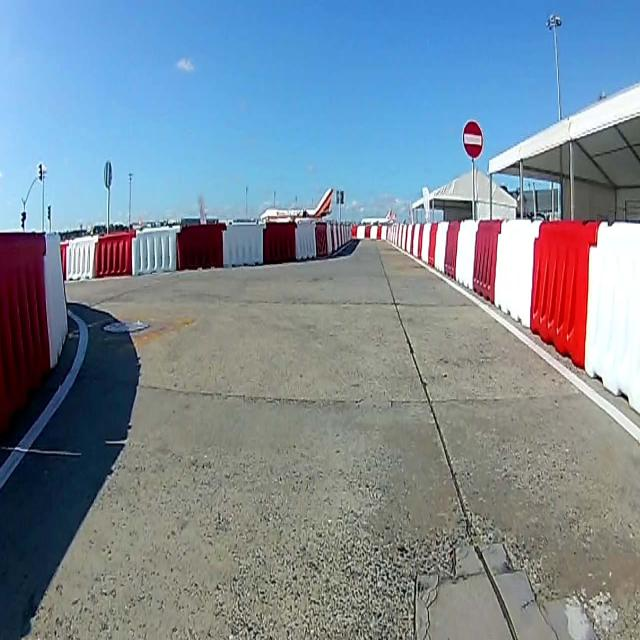girisyok: (462, 118, 484, 158)
